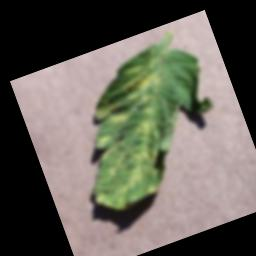Leaf_Mold: (51, 46, 203, 220)
